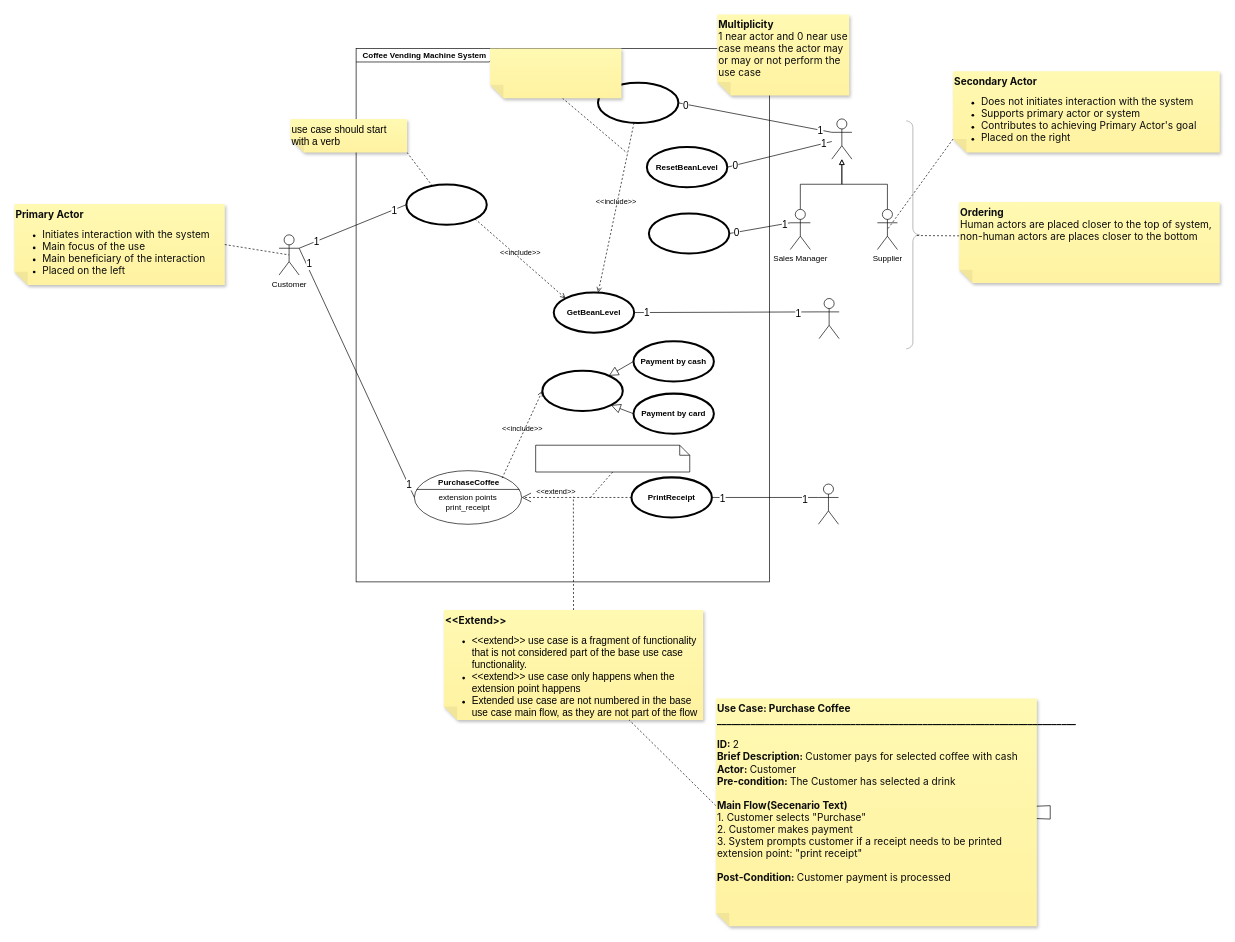
Image size: 1235x942. Some labels were removed from this diagram. The shapes that lost their labels are listed below. From the top down, each one's centre as x and y in pixels, then its label:
the point at 556,74: <<include>> use case is performed whenever its base use case is performed
the point at 638,102: SetAvailableDrinks
the point at 841,138: Vendor
the point at 446,204: ShowAvailableDrinks
the point at 689,233: DisplayCoffeeSales
the point at 828,318: Bean Rack
the point at 582,391: Payment
the point at 612,458: Condition: {clicks print receipt} extension point: print_receipt
the point at 828,503: Printer
